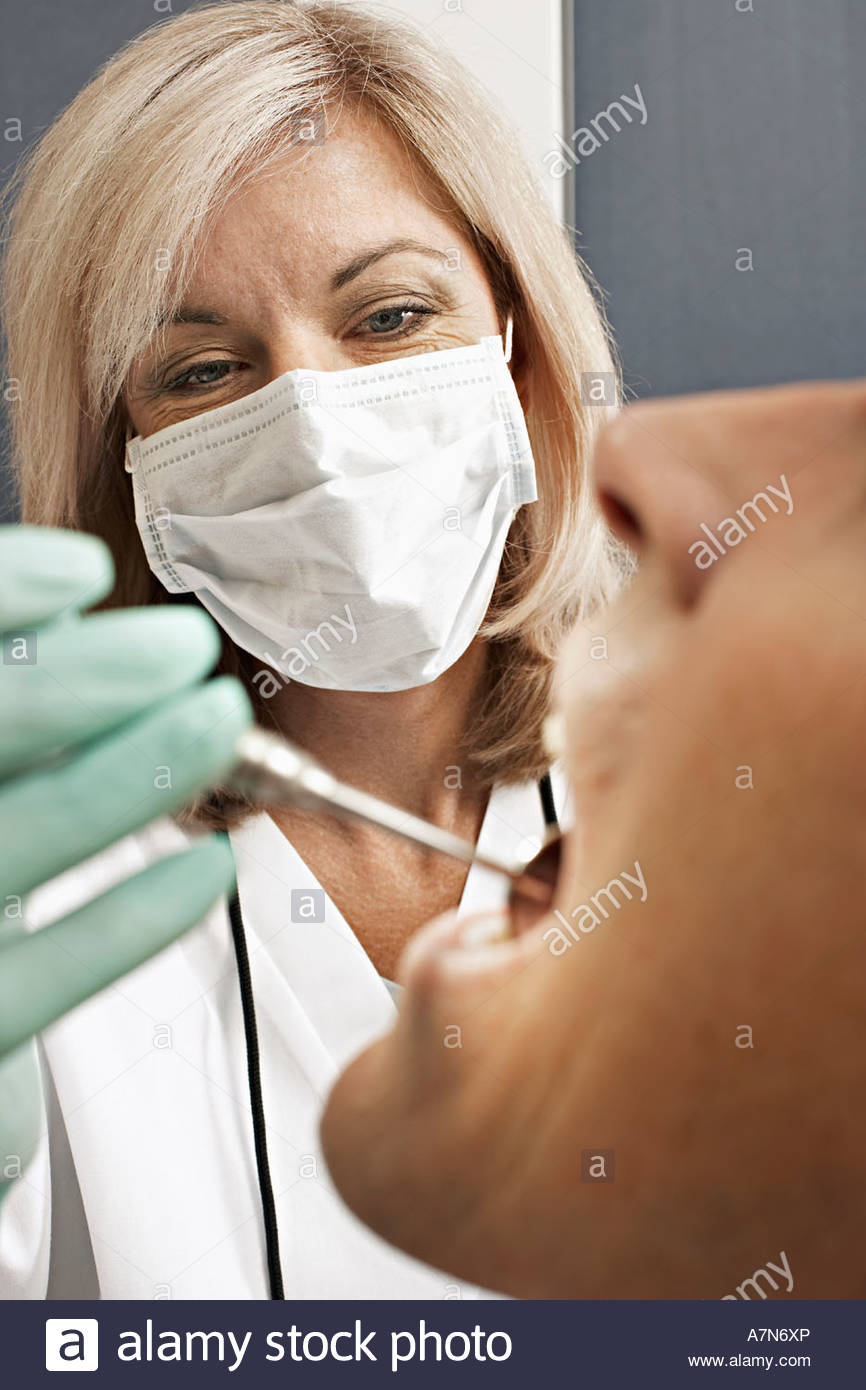mask: (143, 402, 546, 656)
